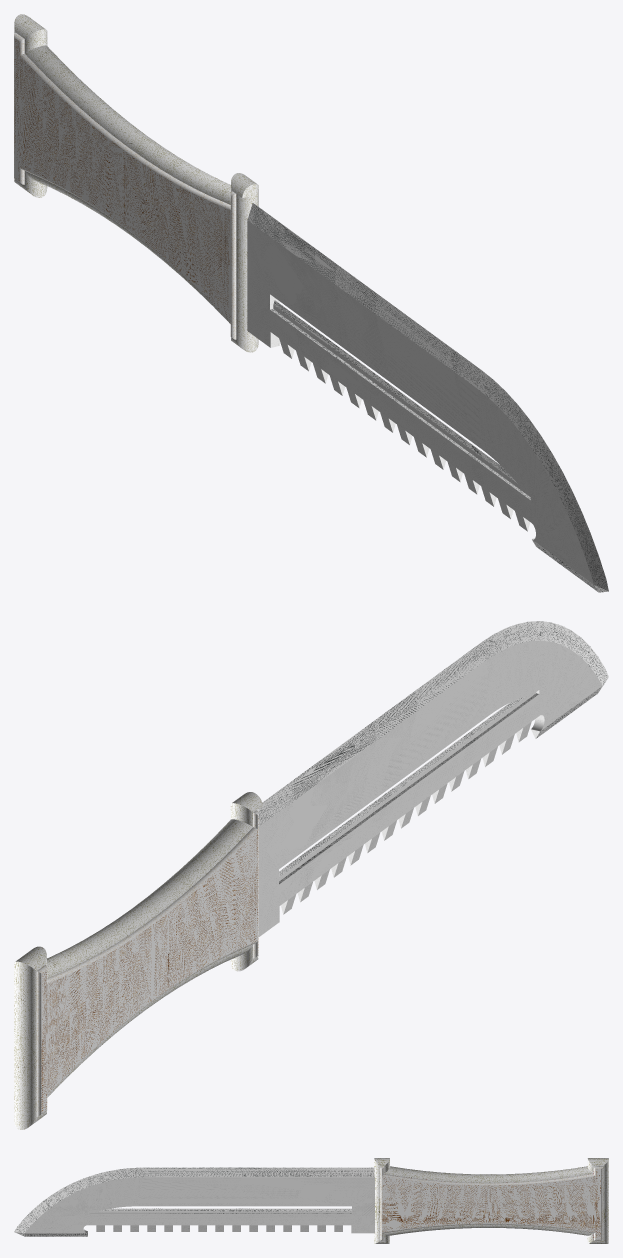
The model's file is model_align.obj.
The picture shows the model from 3 angles, top to bottom: view 1: azimuth 30°, elevation 25°; view 2: azimuth 150°, elevation 25°; view 3: azimuth 270°, elevation 25°; orthographic projection. The views are drawn at different scales.
Parts seen in each view (by area): view 1: mesh1_mesh1-geometry; view 2: mesh1_mesh1-geometry; view 3: mesh1_mesh1-geometry.
Boxes of the visible parts, left/top/right/bottom form: mesh1_mesh1-geometry: left=14, top=14, right=608, bottom=592; mesh1_mesh1-geometry: left=14, top=621, right=608, bottom=1129; mesh1_mesh1-geometry: left=14, top=1158, right=608, bottom=1243.
Size of the model in its own units: 0.00553 by 0.0326 by 0.2072.
